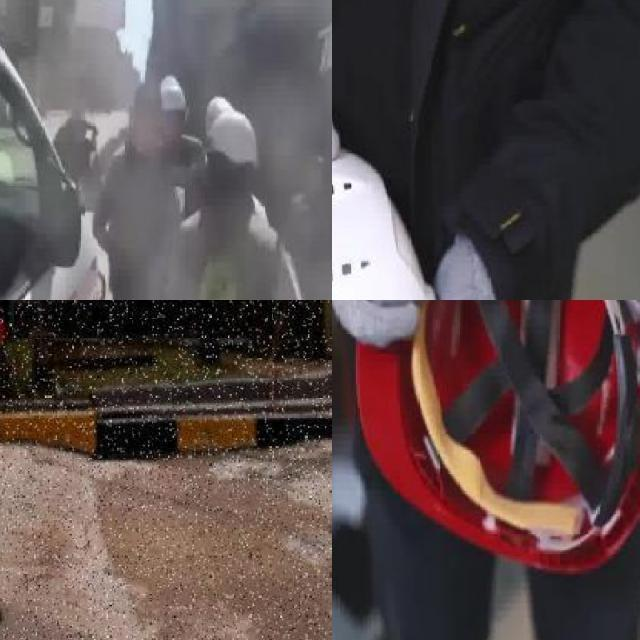apron: (332, 300, 472, 355), (403, 229, 504, 300)
